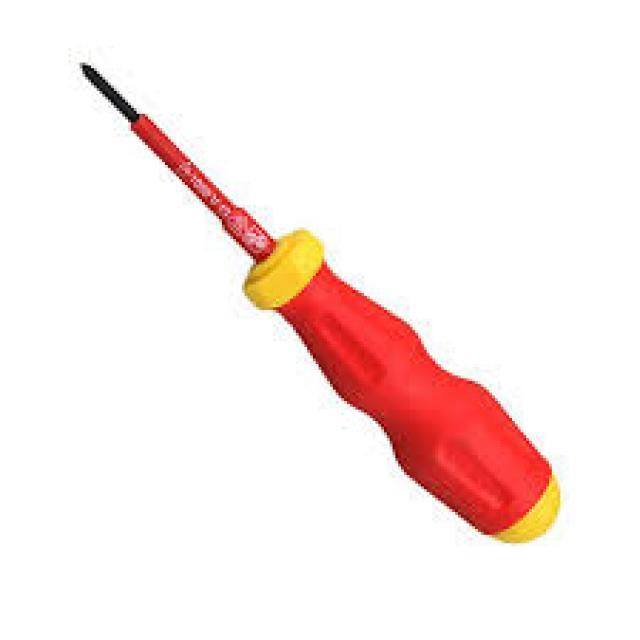screwdriver: (68, 55, 566, 548)
